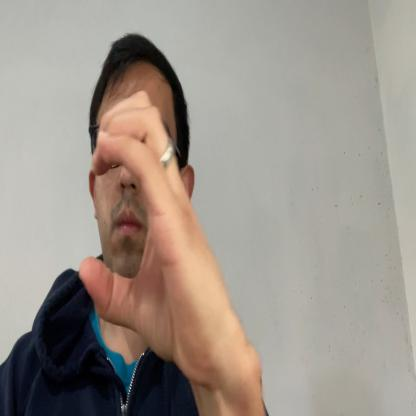C: (80, 88, 226, 372)
